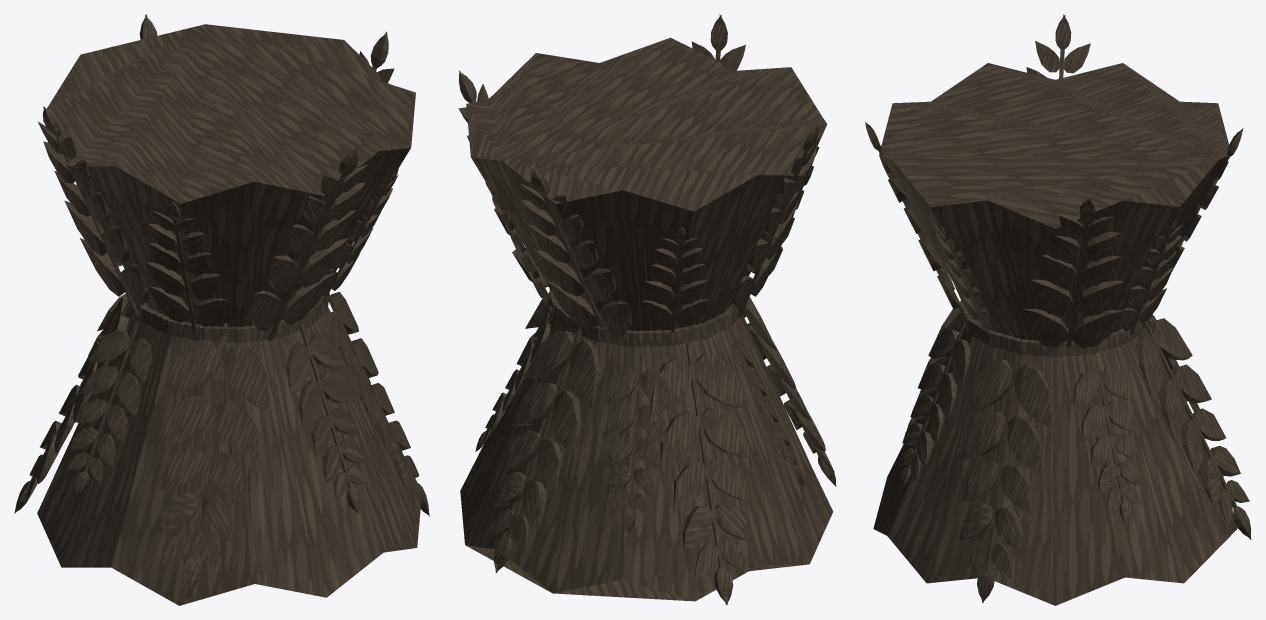
The model's file is trigoBulto.fbx.
The picture shows the model from 3 angles, left to right: view 1: azimuth 30°, elevation 25°; view 2: azimuth 150°, elevation 25°; view 3: azimuth 270°, elevation 25°; orthographic projection. The views are drawn at different scales.
Parts seen in each view (by area): view 1: trigo; view 2: trigo; view 3: trigo.
Part boxes in pixels (x1,y1,x2,y2): trigo: (14, 14, 429, 605); trigo: (458, 14, 836, 605); trigo: (865, 14, 1251, 605).
Size of the model in its own units: 187 by 231 by 187.
